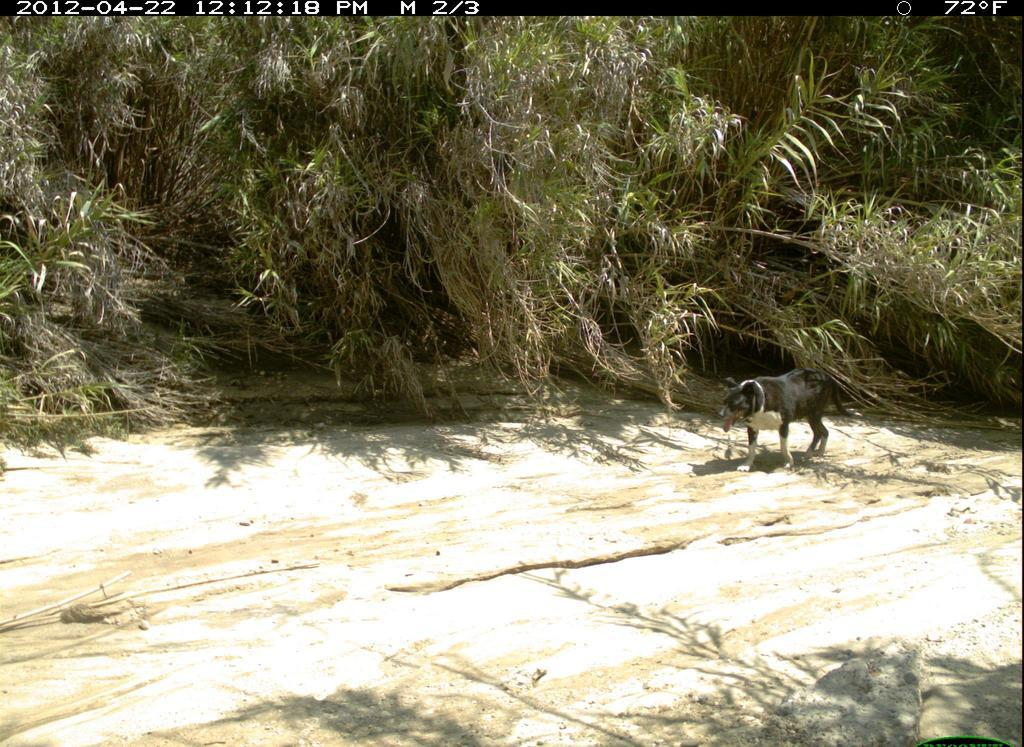dog: (724, 356, 863, 483)
